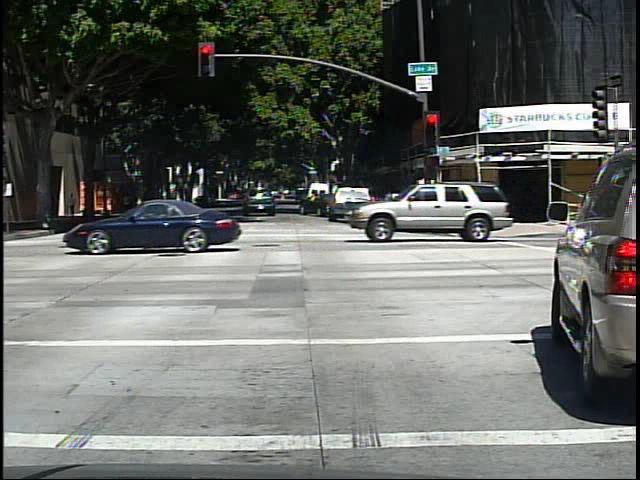person: (66, 189, 80, 221)
